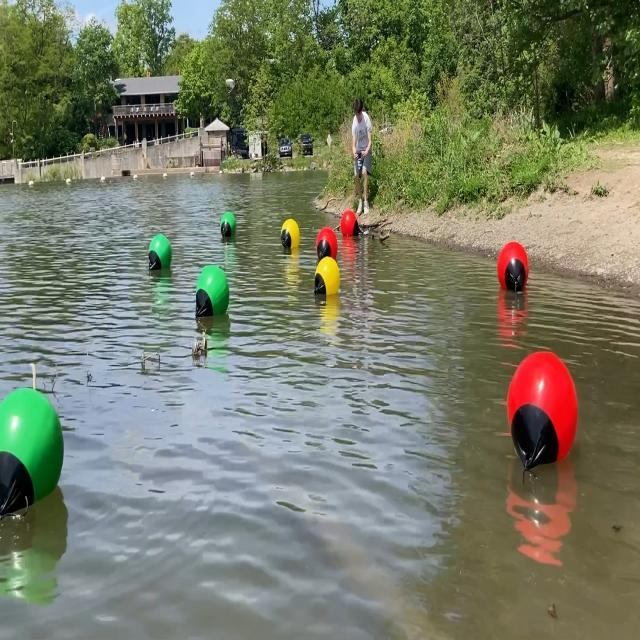buoy: (506, 347, 580, 473), (0, 388, 65, 520), (196, 265, 230, 320), (497, 240, 530, 296), (313, 254, 338, 297), (148, 234, 174, 273), (314, 225, 335, 260), (339, 210, 361, 240), (280, 217, 298, 250), (220, 212, 236, 239)
